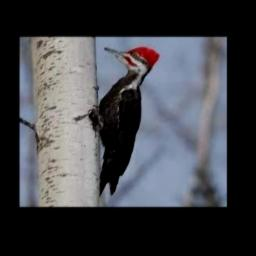Woodpecker: (92, 47, 160, 197)
